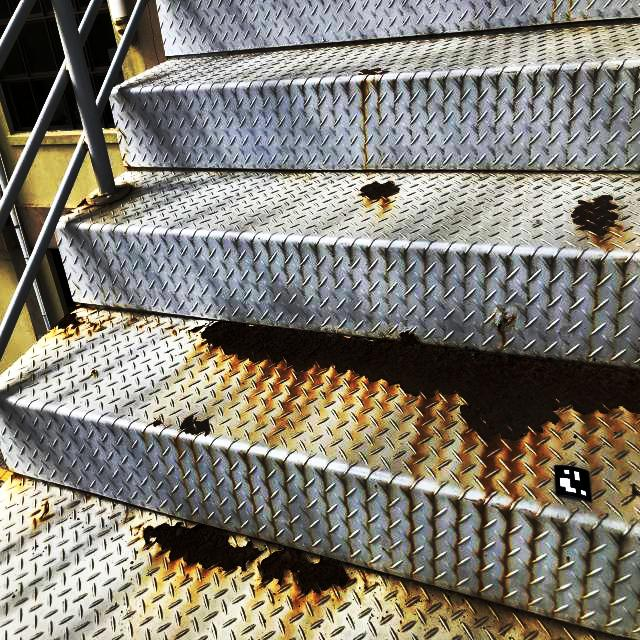Corrosion: (202, 321, 640, 440), (143, 521, 260, 572), (260, 546, 349, 595), (572, 194, 619, 236), (50, 306, 83, 334), (361, 180, 400, 199), (180, 415, 210, 435), (358, 67, 391, 76), (496, 317, 509, 339), (40, 500, 50, 521), (188, 323, 206, 334), (631, 485, 640, 498), (75, 199, 88, 208), (152, 418, 163, 428), (88, 321, 98, 331), (136, 524, 142, 536), (33, 509, 42, 516), (63, 211, 74, 216), (119, 129, 125, 138), (81, 206, 93, 210), (510, 315, 515, 322), (90, 369, 95, 376), (126, 161, 130, 167), (123, 154, 126, 161), (34, 518, 36, 526), (87, 495, 91, 499)
